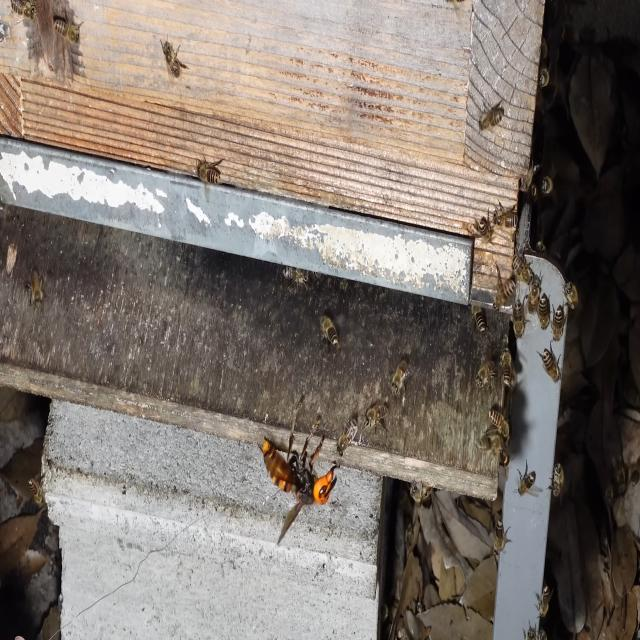Bees: (159, 34, 190, 84), (535, 340, 563, 385), (193, 151, 225, 190), (52, 7, 84, 46), (24, 265, 51, 310), (334, 410, 359, 456), (493, 264, 516, 314), (514, 458, 542, 499), (523, 266, 544, 316), (476, 97, 505, 132), (491, 516, 512, 563), (388, 359, 411, 401), (318, 310, 341, 352), (407, 476, 435, 508), (492, 200, 518, 234), (511, 296, 529, 344), (486, 406, 510, 441), (363, 401, 390, 432), (476, 428, 504, 457), (516, 164, 537, 202), (514, 244, 533, 286), (9, 0, 40, 25), (474, 357, 496, 392), (550, 302, 568, 344), (499, 343, 515, 390), (282, 264, 309, 291), (473, 208, 492, 246), (28, 472, 48, 508), (548, 460, 565, 502), (534, 583, 553, 620), (537, 291, 553, 334), (563, 278, 579, 312), (472, 300, 487, 335), (541, 174, 553, 198)
Hornets: (256, 395, 340, 543)
